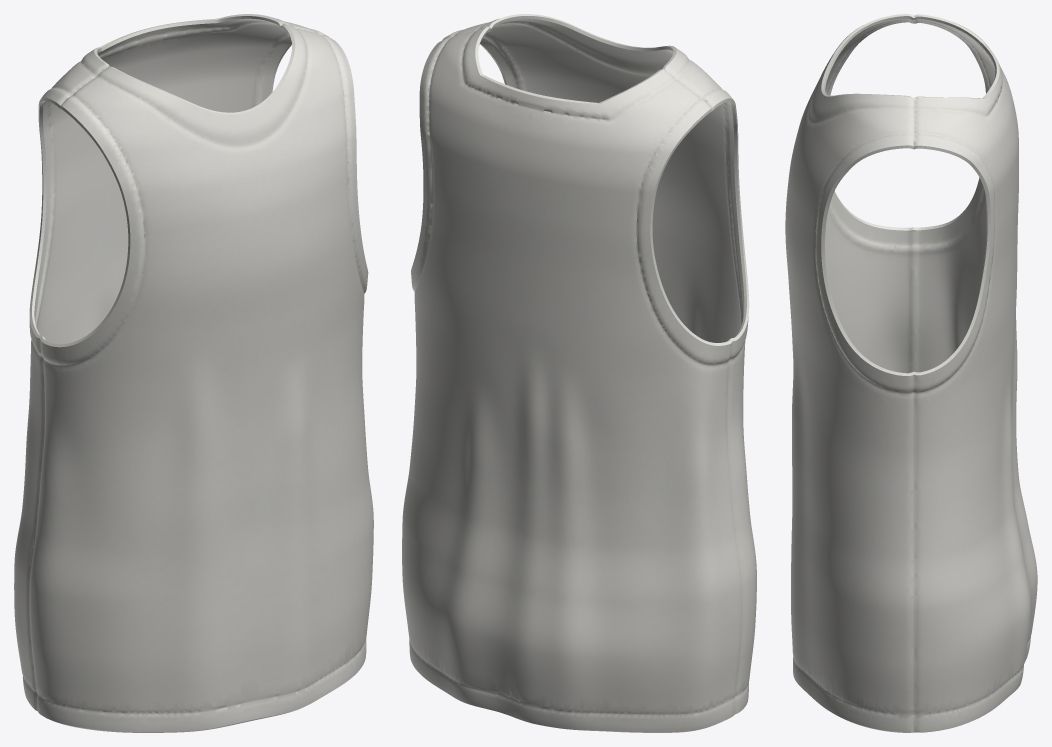
The model's file is 01_camiseta_tirantes_pbr.glb.
3 views of the same model, side by side, from view 1: azimuth 30°, elevation 25°; view 2: azimuth 150°, elevation 25°; view 3: azimuth 270°, elevation 25° (orthographic). The views are drawn at different scales.
Parts seen in each view (by area): view 1: Camiseta PBR; view 2: Camiseta PBR; view 3: Camiseta PBR.
Part boxes in pixels (x1,y1,x2,y2): Camiseta PBR: (14, 14, 373, 732); Camiseta PBR: (402, 14, 756, 732); Camiseta PBR: (785, 14, 1037, 732).
Size of the model in its own units: 0.3914 by 0.7097 by 0.2675.
Materials: 1 (1 with a texture image).
